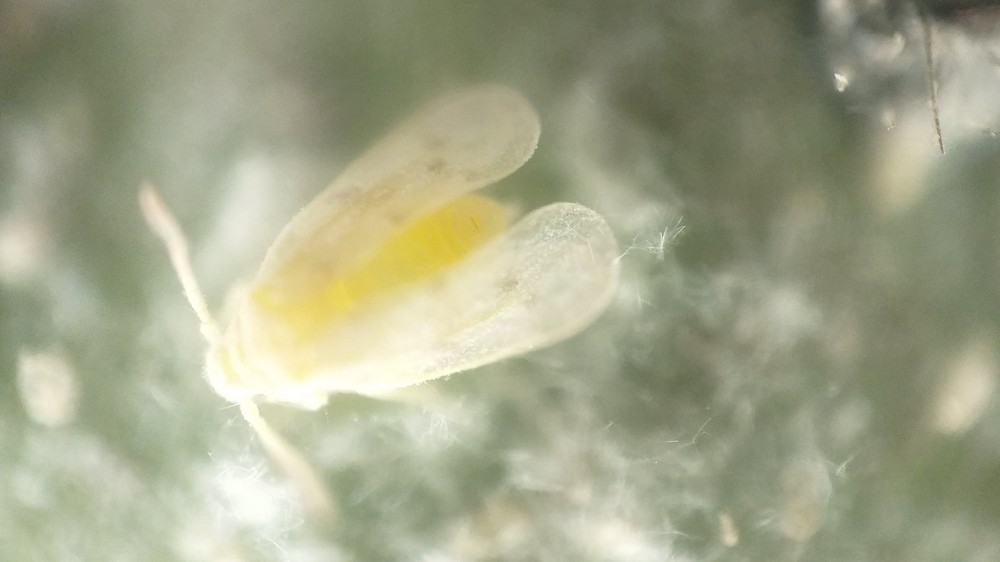Mosca Blanca: (133, 76, 629, 535)
